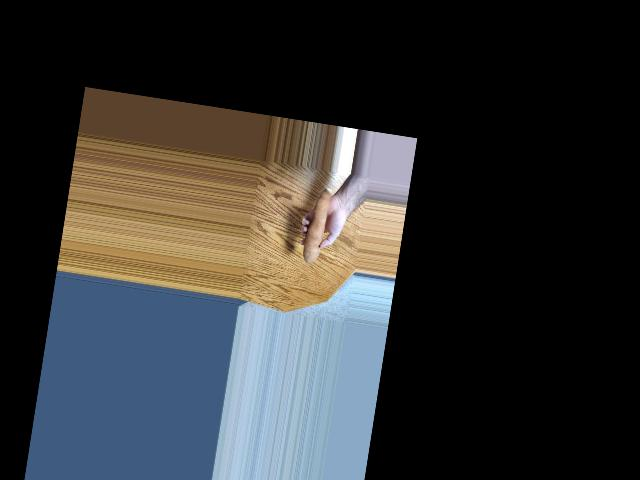sweet_potato: (295, 188, 330, 267)
